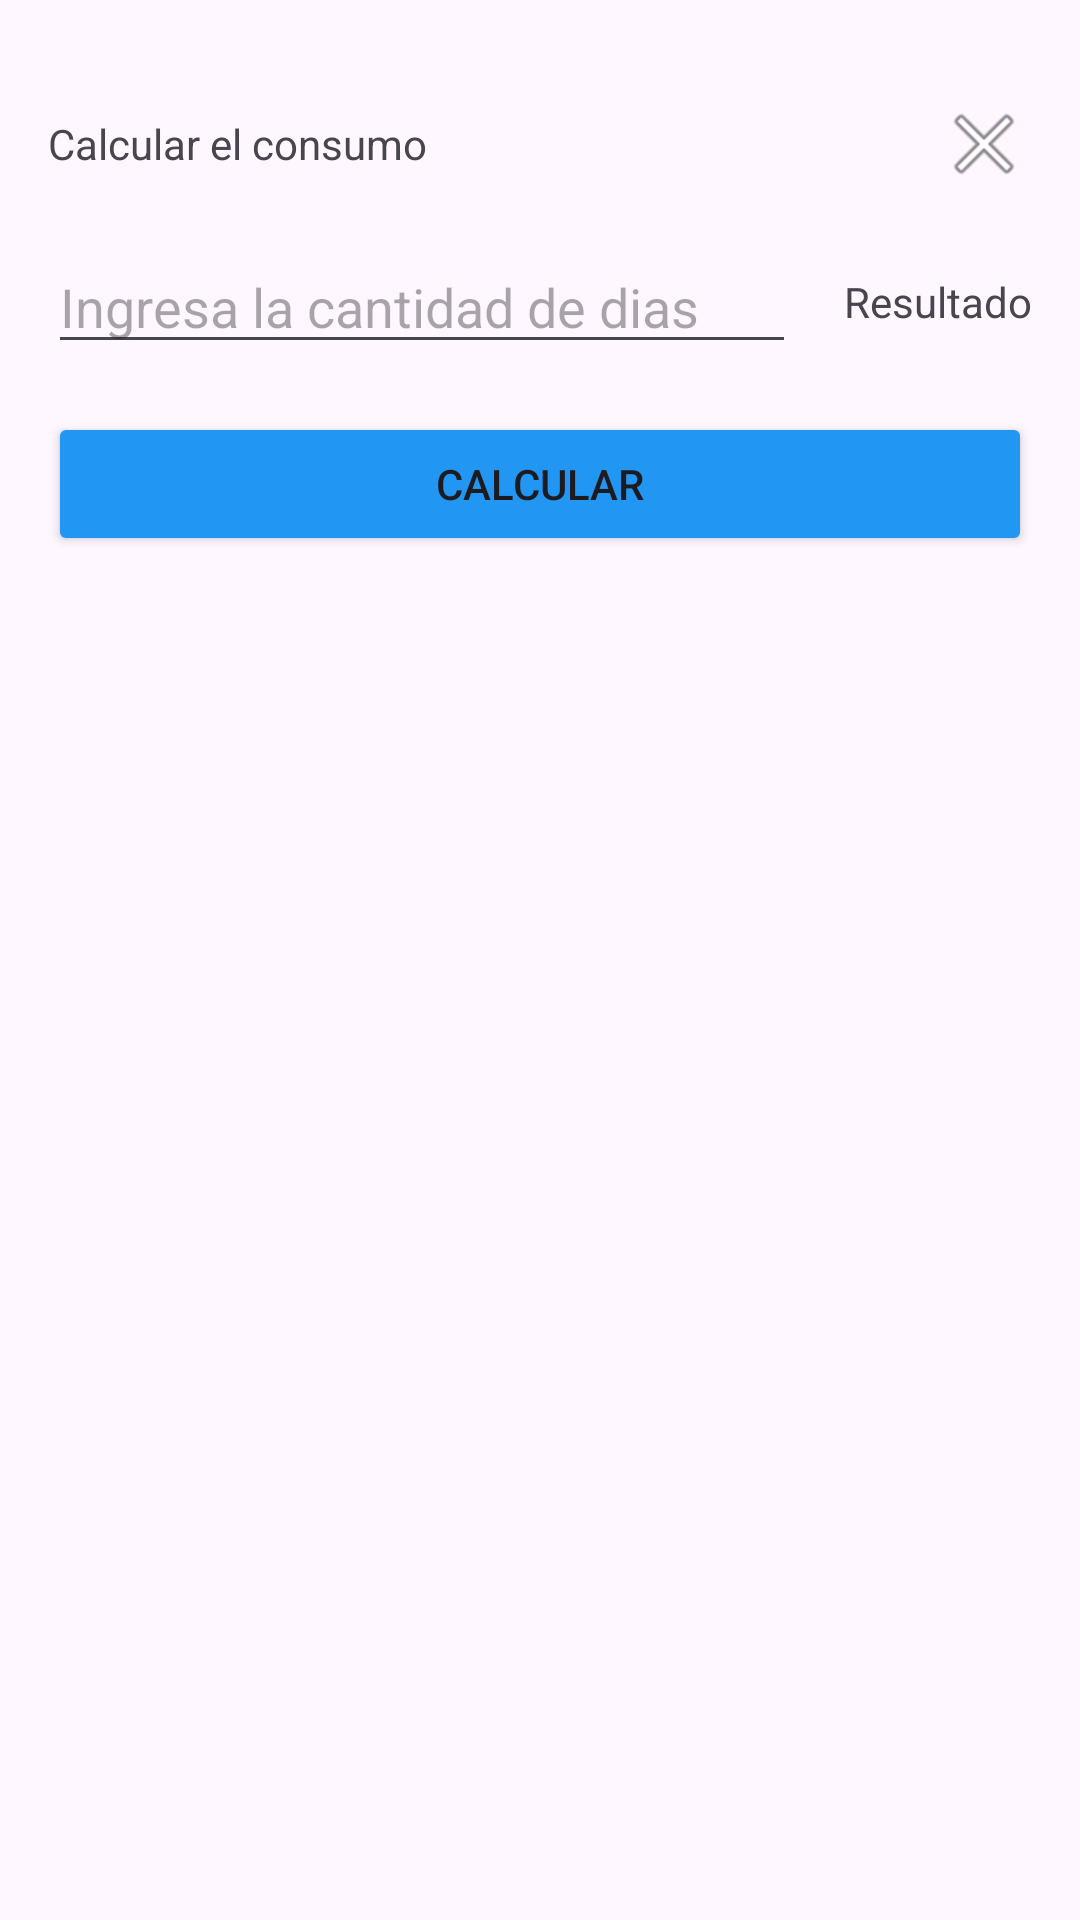

Icon bounding boxes for this 1080 x 1920 phone screenshot, format (x1, y1, x2, y2):
Salir: (954, 114, 1014, 174)
